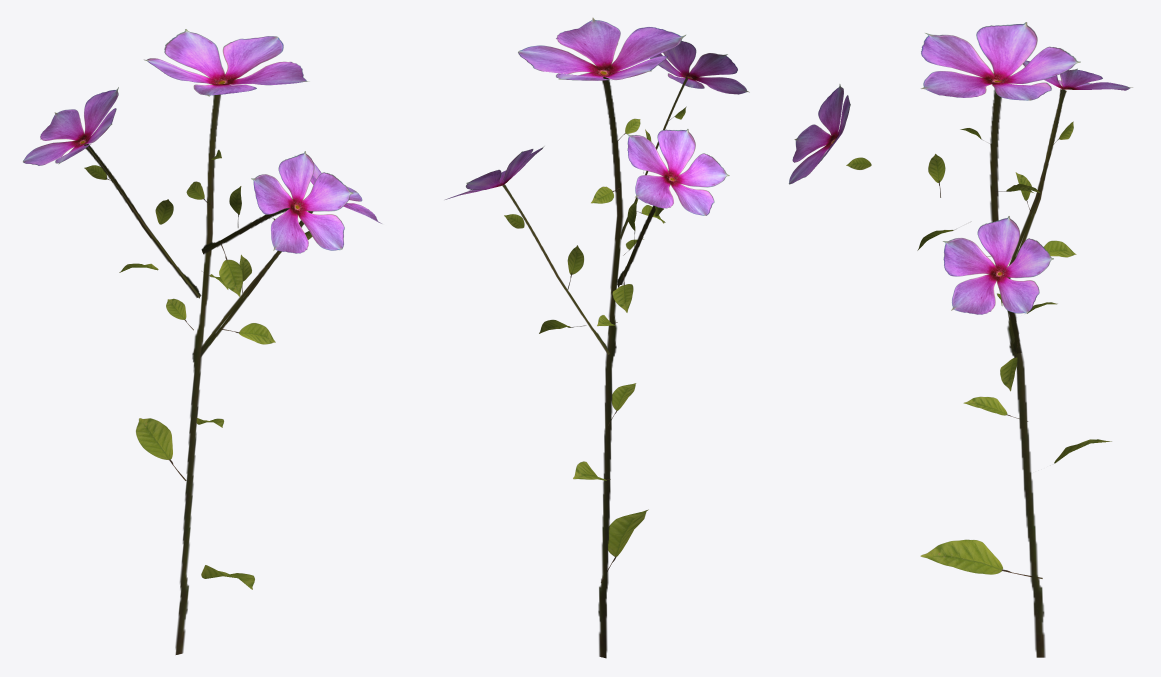
The model's file is purpleflower.gltf.
The picture shows the model from 3 angles, left to right: view 1: azimuth 30°, elevation 25°; view 2: azimuth 150°, elevation 25°; view 3: azimuth 270°, elevation 25°; orthographic projection. The views are drawn at different scales.
Parts seen in each view (by area): view 1: PurpleFlower_1; view 2: PurpleFlower_1; view 3: PurpleFlower_1.
Part boxes in pixels (<box>): PurpleFlower_1: <box>23,29,381,654</box>; PurpleFlower_1: <box>445,18,749,658</box>; PurpleFlower_1: <box>789,22,1132,657</box>.
Size of the model in its own units: 0.1402 by 0.2499 by 0.1335.
